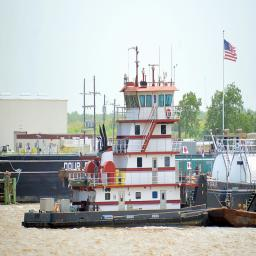tugboat: (20, 41, 213, 237)
